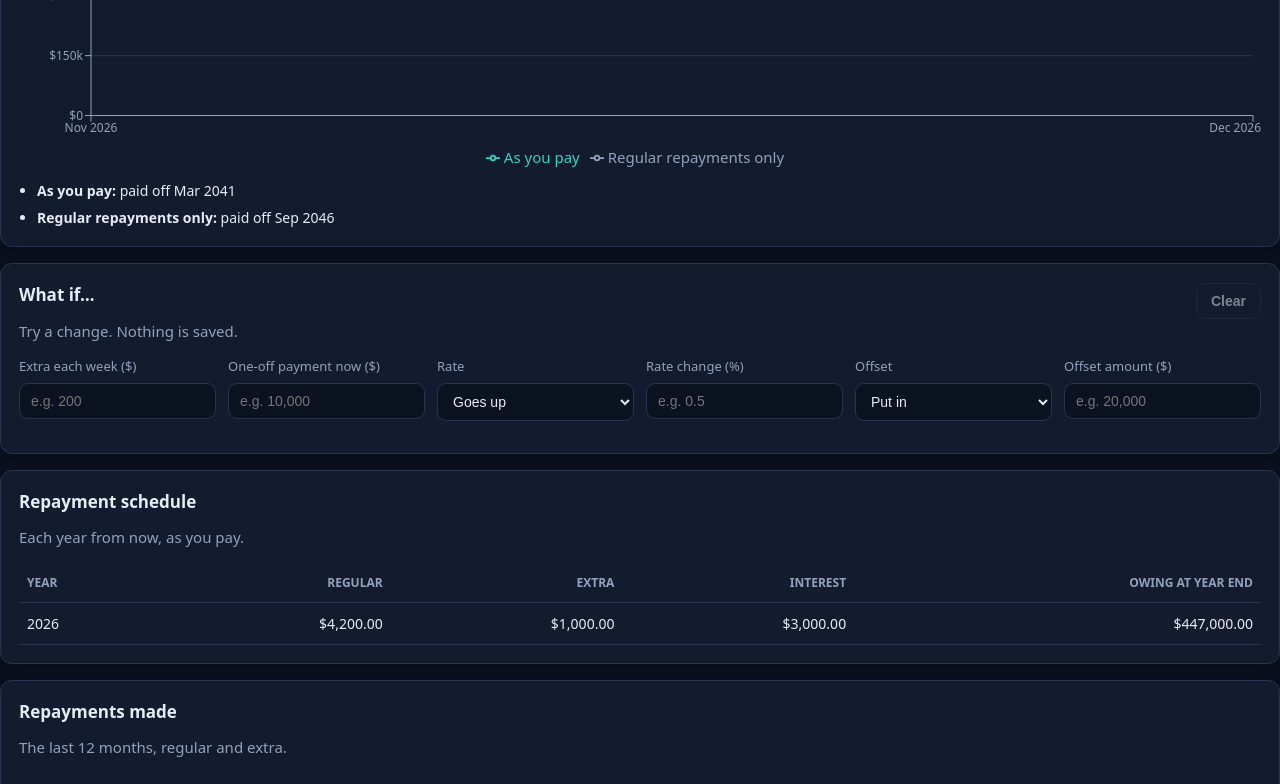
Test case: Mortgage page › says why a what-if is never paid off, and gives the bank's repayment for a rate change
(page scrolled)
Type "3" into the field labelled "Rate change (%)" at (744, 400), box [646,382,843,418]
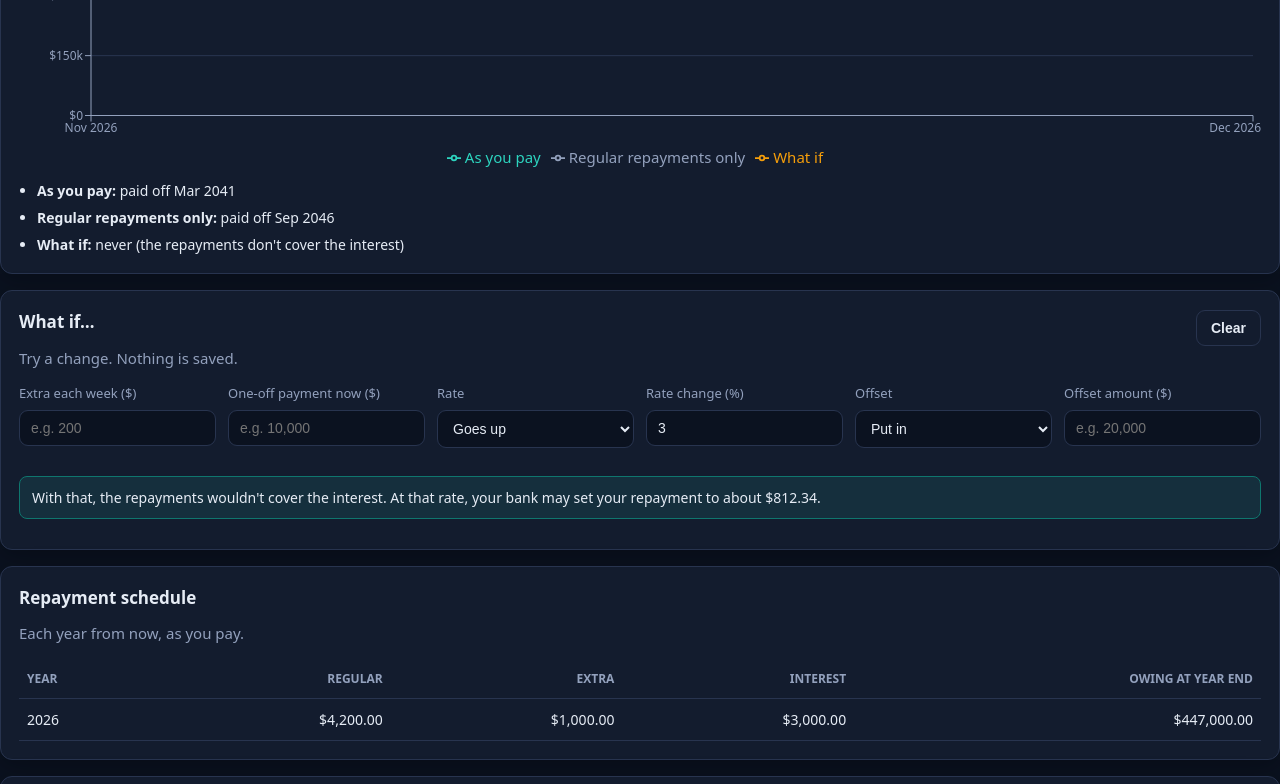
expect the text "repayments wouldn't cover the interest. At that rate, your bank may set your repayment to about $812.34." is shown: met, box [32,488,821,506]
